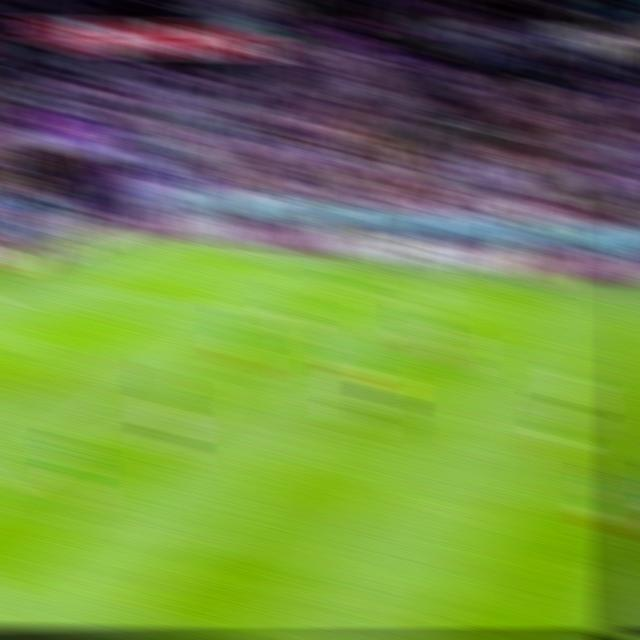bigarea_top_inner: (248, 301, 281, 319)
bigarea_top_outter: (25, 278, 54, 291)
bottom_arc_area_intersection: (35, 442, 68, 461)
corner: (117, 237, 150, 248)
smallarea_top_inner: (2, 330, 33, 345)
top_arc_area_intersection: (166, 357, 197, 375)
